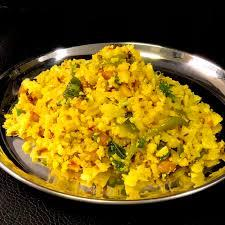poha: (8, 40, 225, 196)
